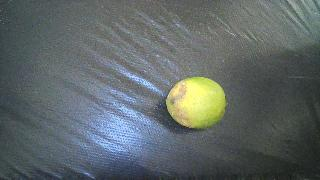DESECHO: (166, 77, 226, 129)
